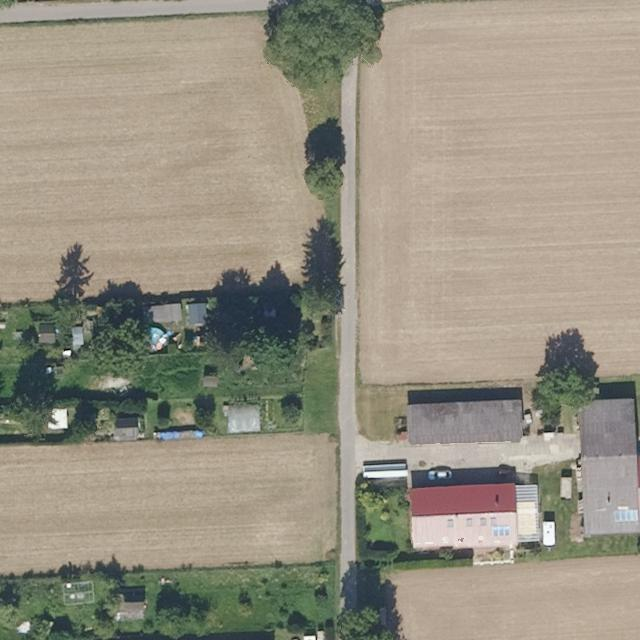PV: (491, 525, 512, 538)
